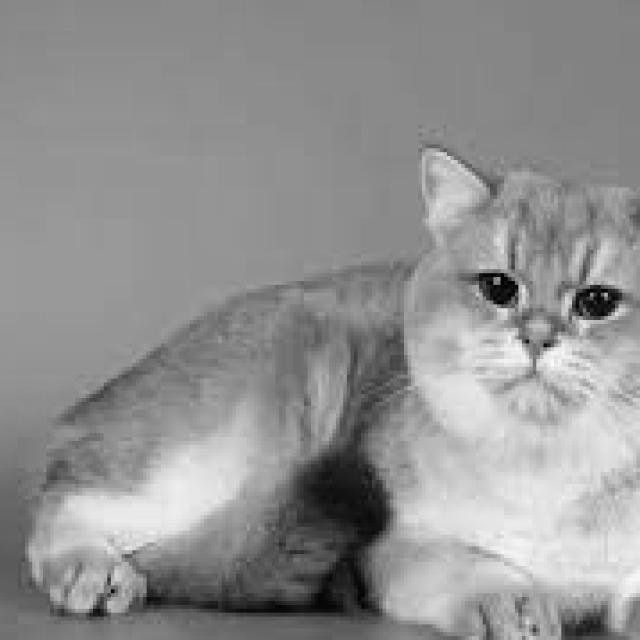british: (397, 121, 640, 445)
